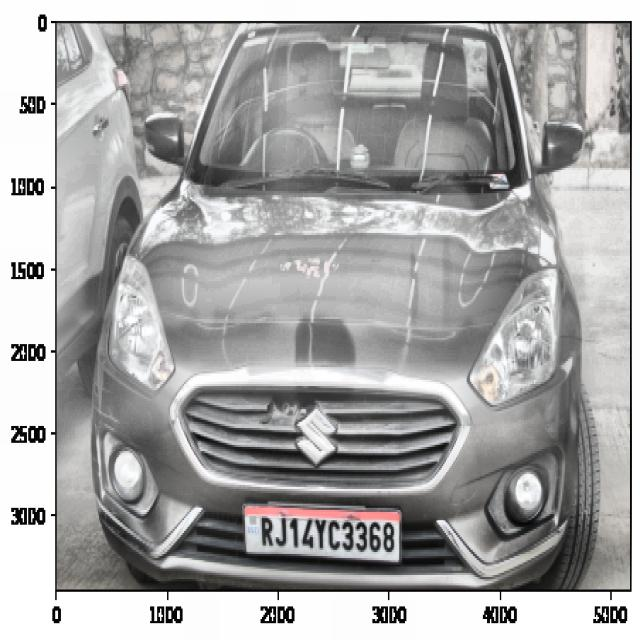license_plate: (258, 502, 402, 562)
